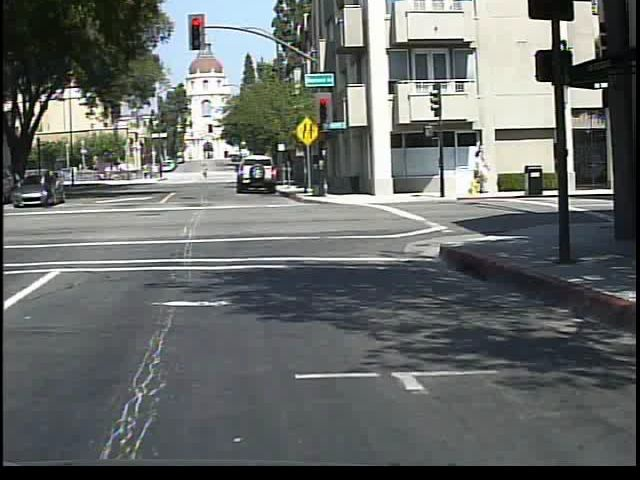person: (7, 168, 33, 221), (40, 165, 64, 209), (203, 164, 214, 181)
